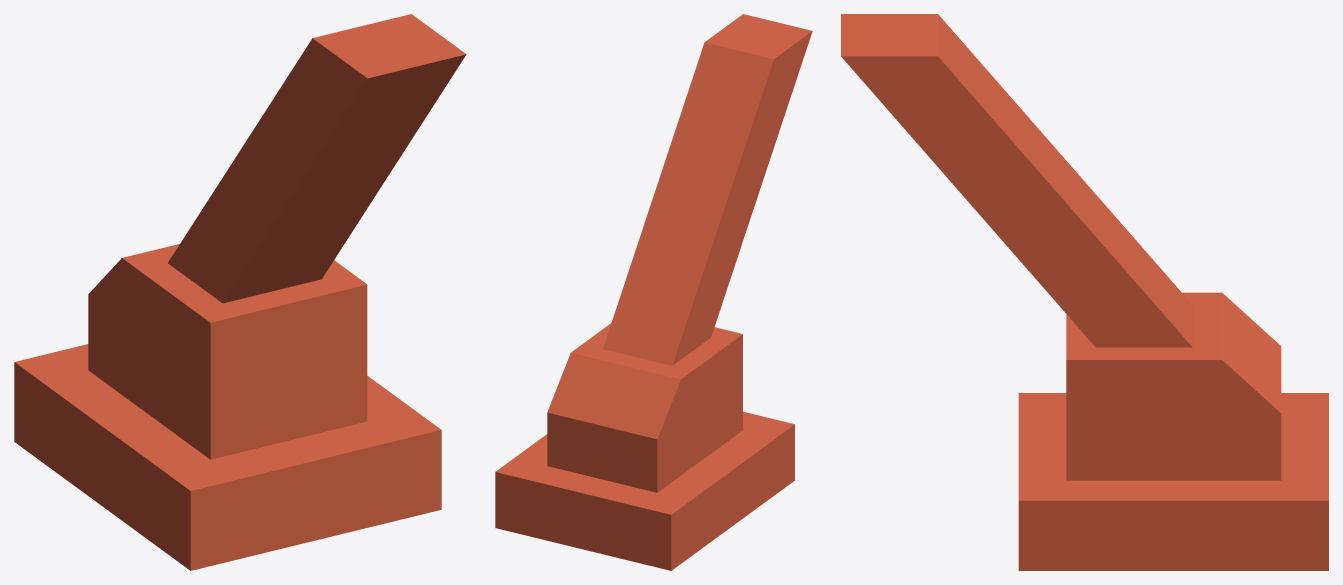
File: spacecraftstand.glb
3 views of the same model, side by side, from view 1: azimuth 30°, elevation 25°; view 2: azimuth 150°, elevation 25°; view 3: azimuth 270°, elevation 25° (orthographic). The views are drawn at different scales.
Parts seen in each view (by area): view 1: spaceCraftStand; view 2: spaceCraftStand; view 3: spaceCraftStand.
Part boxes in pixels (x1,y1,x2,y2): spaceCraftStand: (14, 14, 466, 570); spaceCraftStand: (495, 14, 812, 570); spaceCraftStand: (841, 14, 1328, 570).
Bounding box in the file's own units: 2.3 × 4.8 × 4.4.
